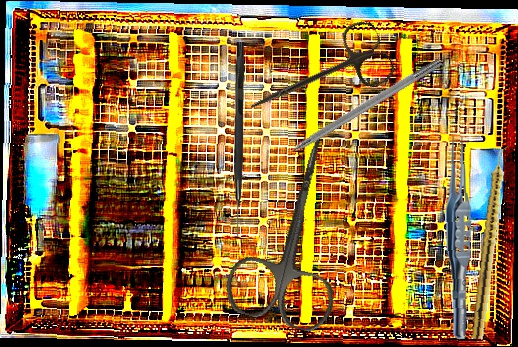Handpiece: (471, 143, 511, 341)
Hook Surgical: (269, 55, 444, 167), (234, 42, 244, 237)
Iris Scissors: (218, 117, 376, 336), (237, 16, 399, 140)
Tissue Forceps: (441, 132, 477, 340)
